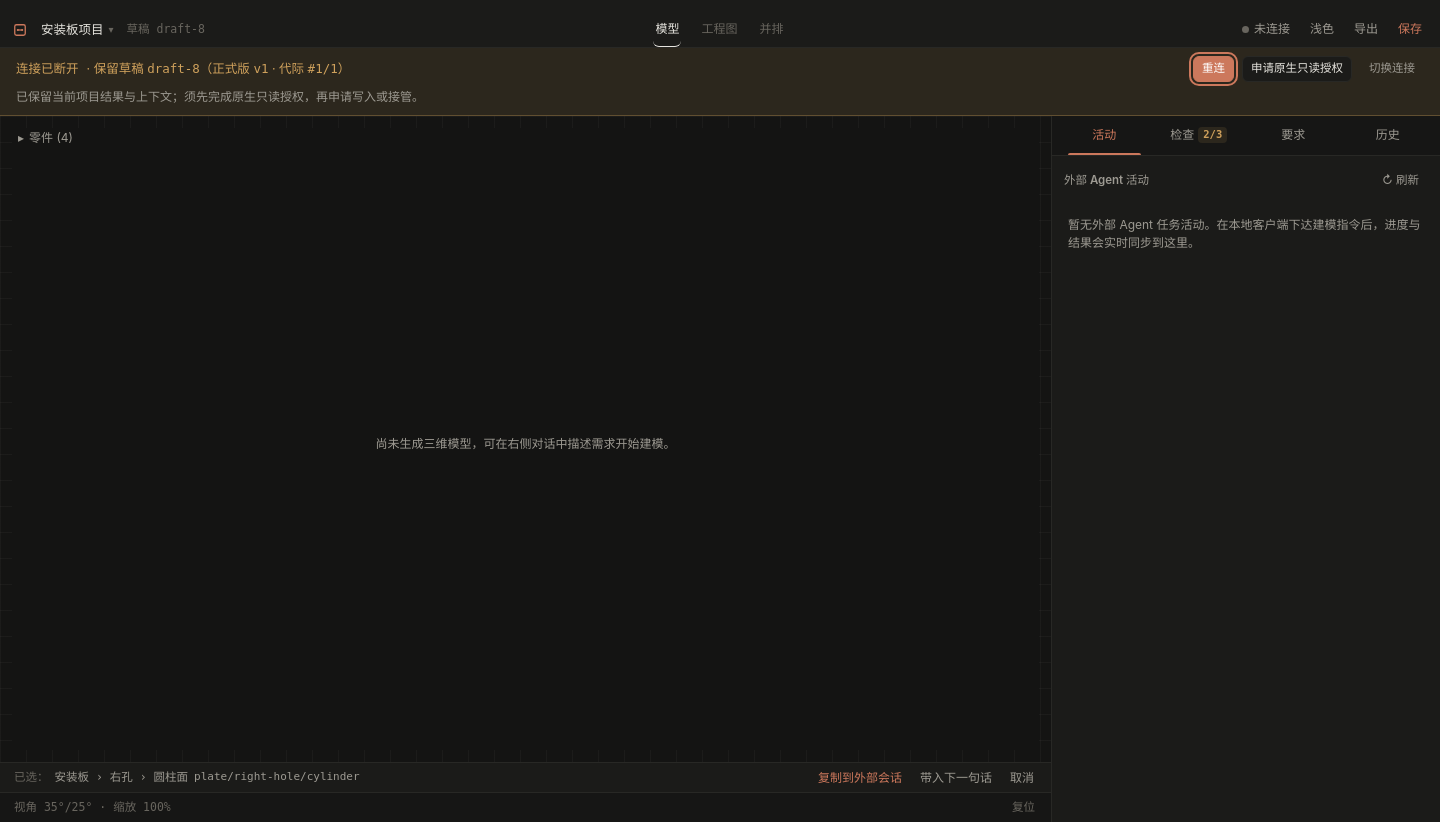
Test case: 寸链 v2 GUI 工作台专项验收（极简工作流、渐进披露、双主题、悬浮引用条与零参数表红线） › 悬浮对象引用条按需浮现（未选中时 100% 隐藏），选中后支持路径展示、带入对话、复制引用与取消选择
展开零件结构浮层并选择第二个特征
Click the button with test id "toggle-structure-btn" at (45, 138), box [12,126,79,150]
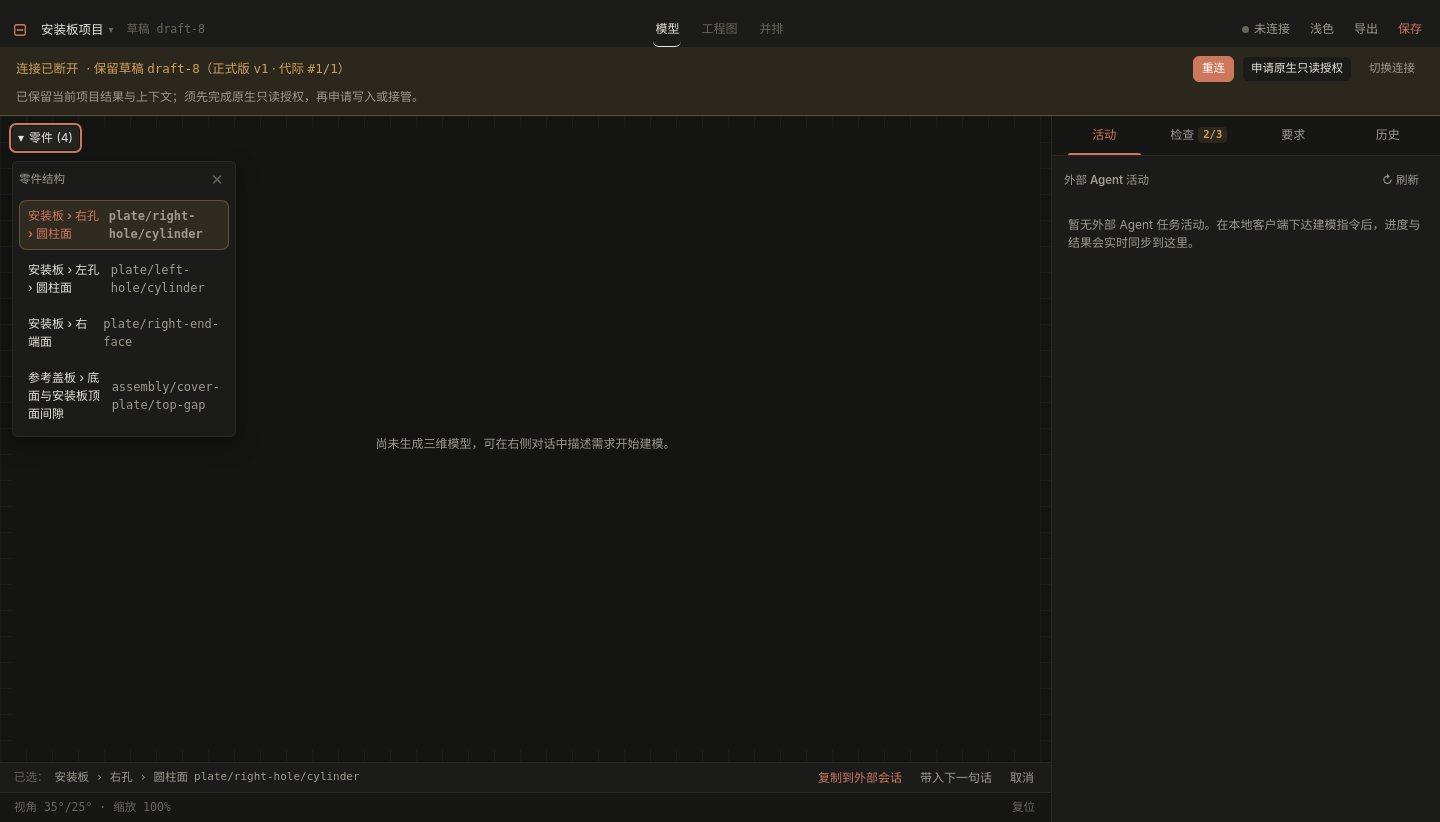
Click the button "安装板 › 左孔 › 圆柱面 plate/left-hole/cylinder" at (124, 279), box [19,254,229,304]
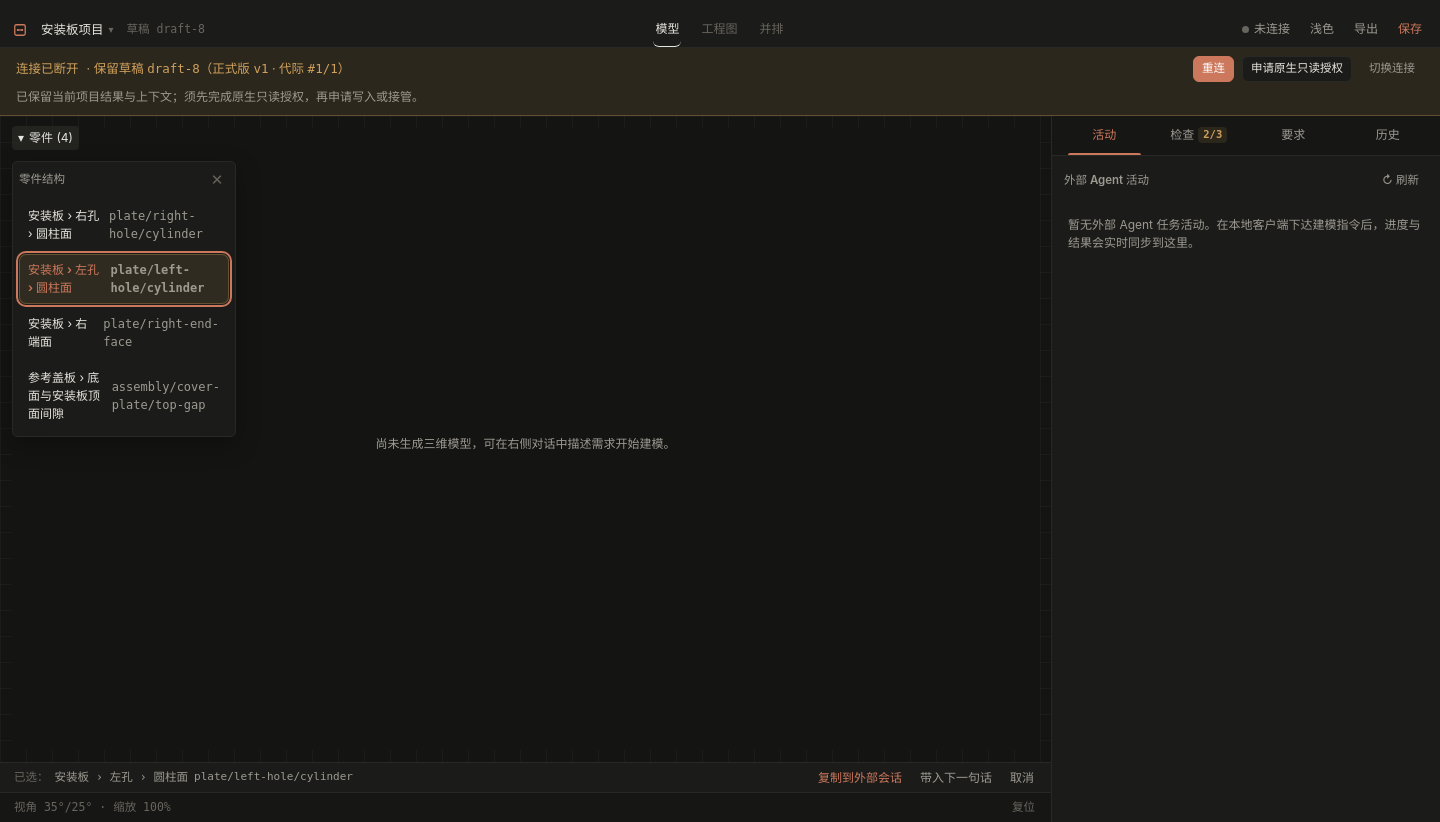
Expected: the text with test id "selection-breadcrumb" is shown, [54,769,188,786]
 复制到外部会话
Click the button "复制到外部会话" at (860, 778), box [815,766,905,788]
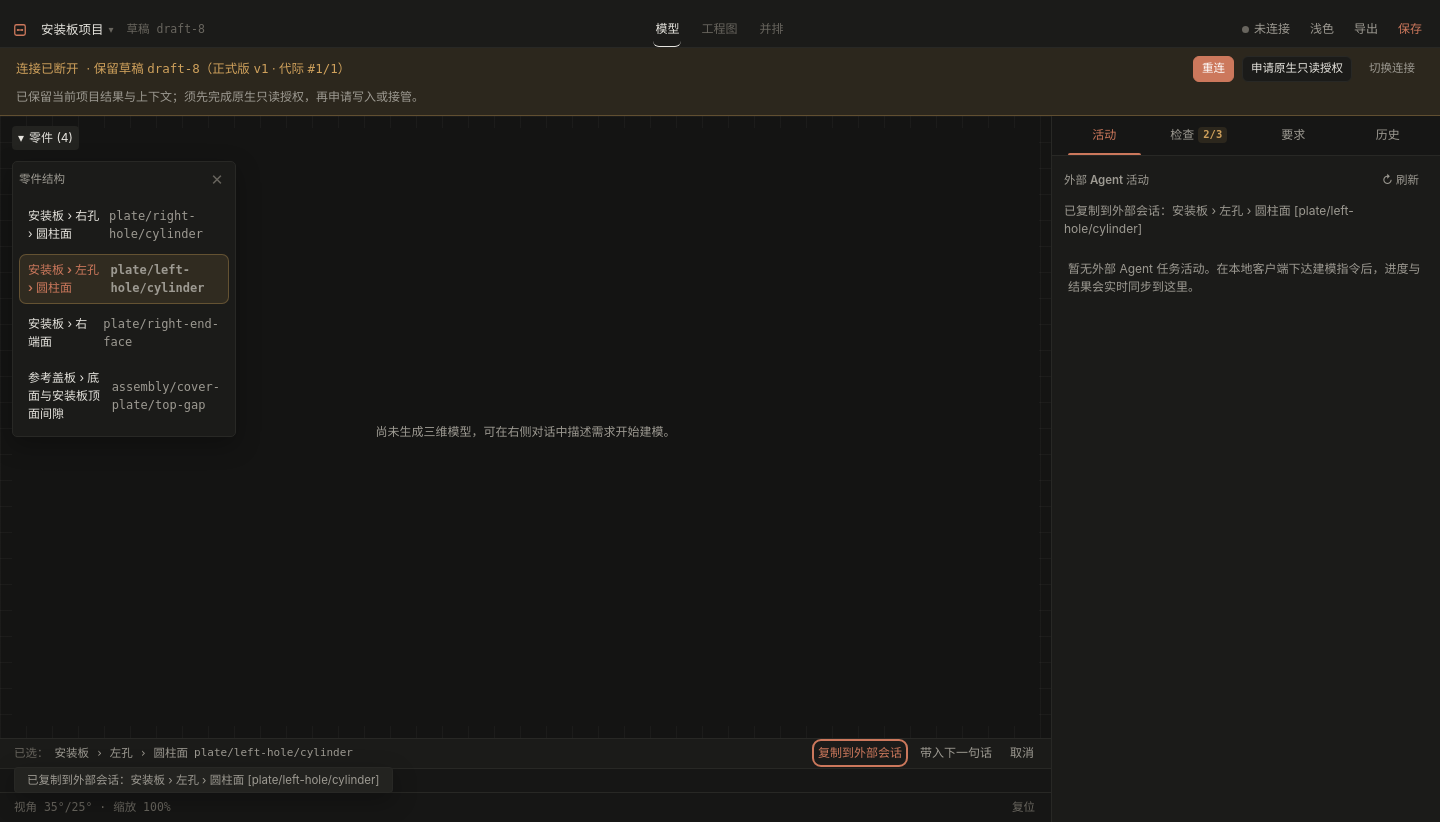
Click the button "带入下一句话" at (956, 753), box [917,742,995,764]
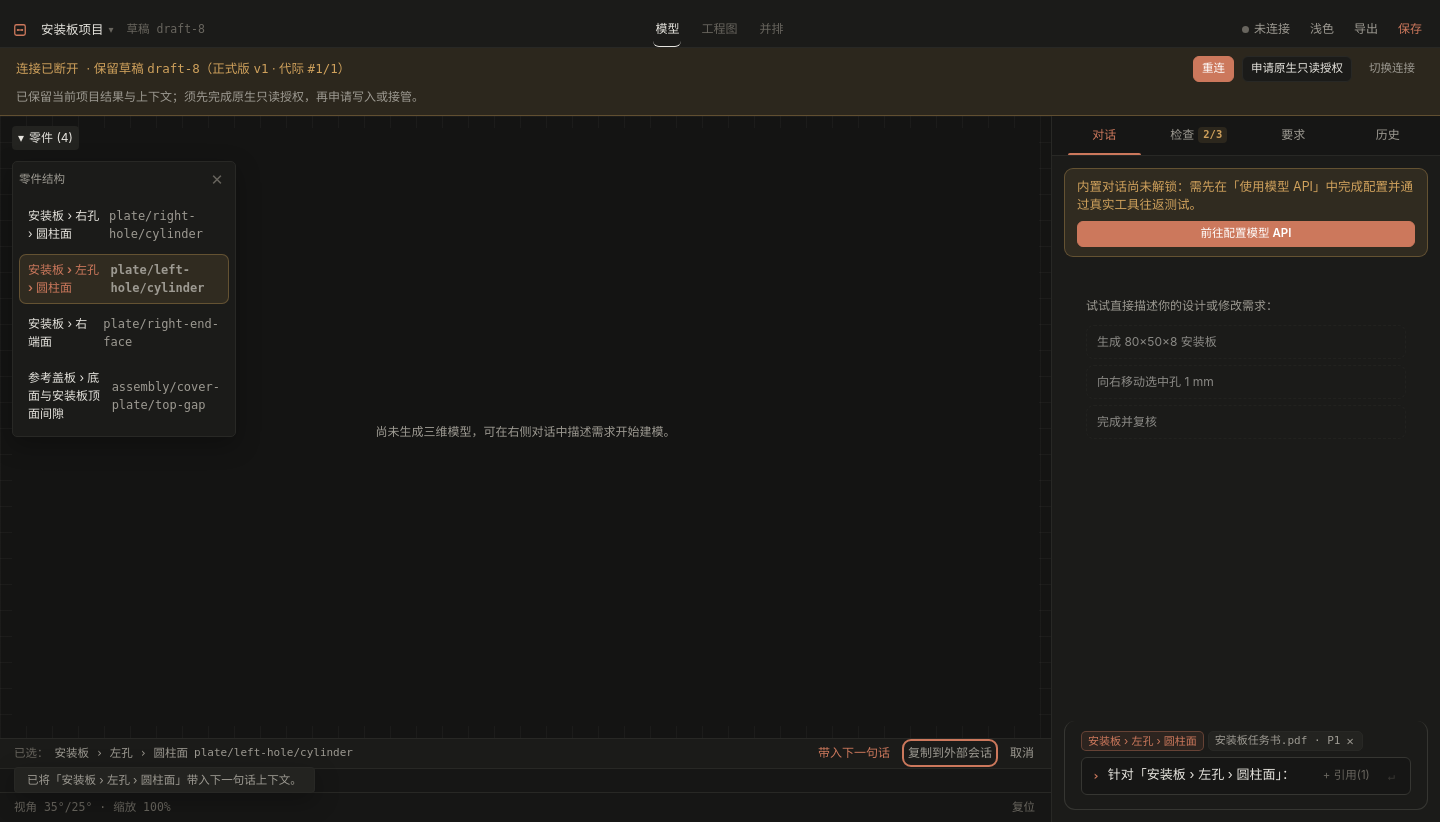
Now the element named "内置模式多轮对话侧栏" is shown, box [1064,168,1428,810]
取消选择后，悬浮对象引用上下文条 100% 隐藏
Click the button with aria-label "取消选择" at (1022, 753), box [1007,742,1037,764]
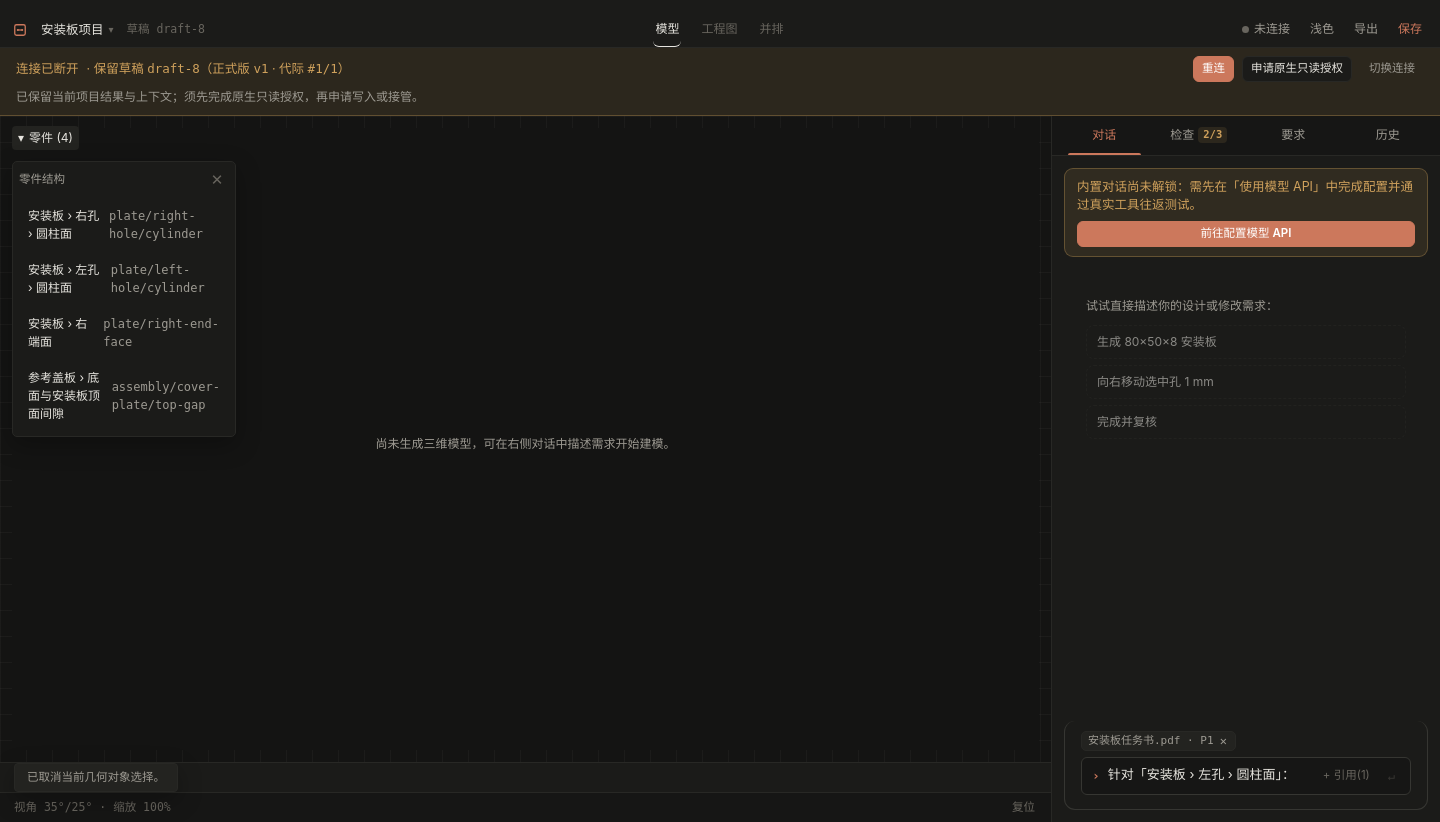
Now the element "对象引用上下文区" is gone
